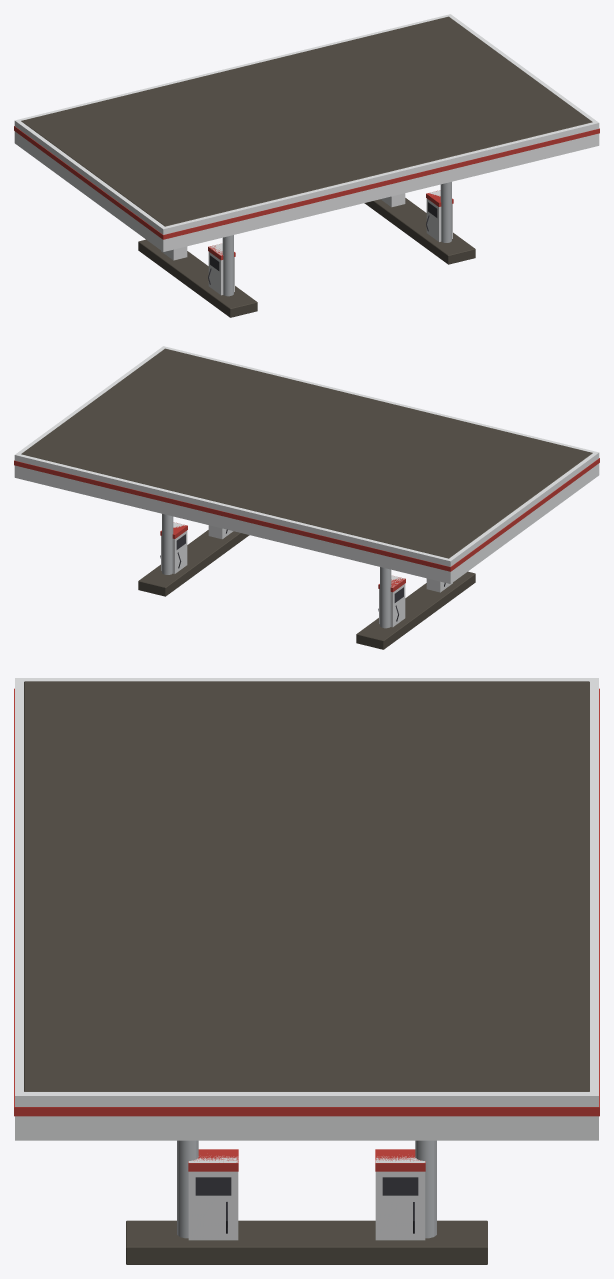
File: station-canopy-lod1.glb
3 views of the same model, one above another, from view 1: azimuth 30°, elevation 25°; view 2: azimuth 150°, elevation 25°; view 3: azimuth 270°, elevation 25° (orthographic). The views are drawn at different scales.
Visible parts, largest first — view 1: station-canopy-plinth.001; view 2: station-canopy-plinth.001; view 3: station-canopy-plinth.001.
Part boxes in pixels (x1=…): station-canopy-plinth.001: x1=14, y1=14, x2=599, y2=317; station-canopy-plinth.001: x1=14, y1=346, x2=599, y2=649; station-canopy-plinth.001: x1=14, y1=678, x2=599, y2=1264.
Size of the model in its own units: 22.04 by 6.42 by 13.04.
